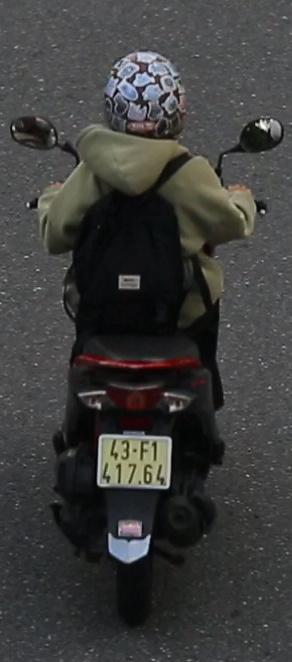LP: (94, 427, 175, 495)
helmet: (101, 43, 191, 153)
